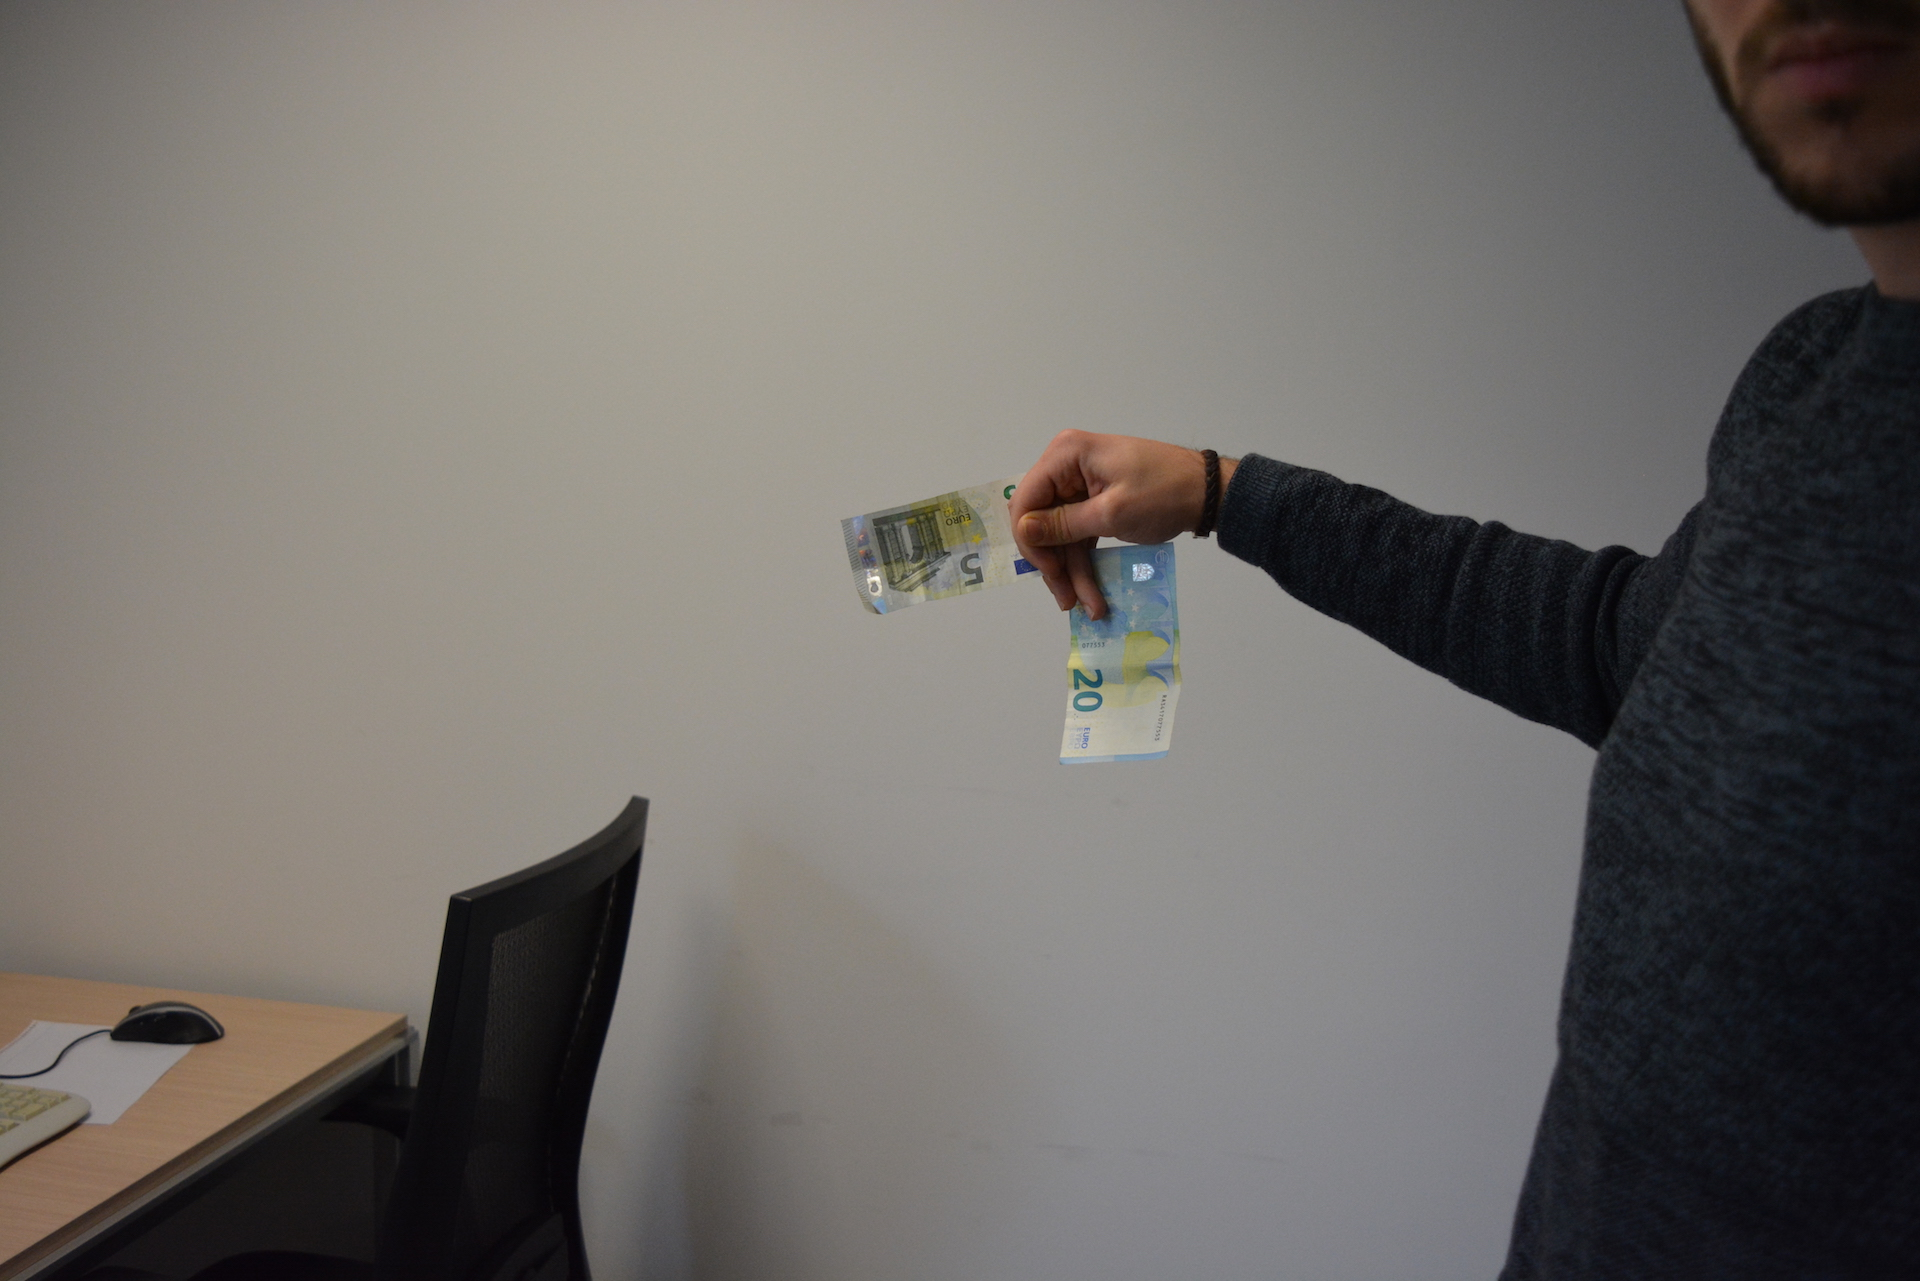billete: (839, 470, 1045, 615), (1058, 540, 1184, 766)
